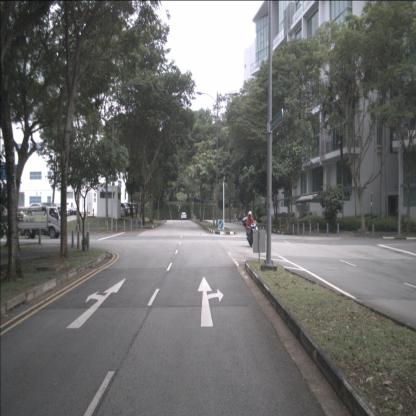vehicle-car: (36, 202, 61, 220), (24, 203, 53, 218), (104, 203, 126, 217), (52, 204, 70, 218), (113, 203, 130, 217), (122, 202, 138, 216), (61, 202, 74, 214), (181, 212, 187, 221)
vehicle-motorcycle: (242, 212, 259, 247)
vehicle-truck: (17, 206, 63, 239)
